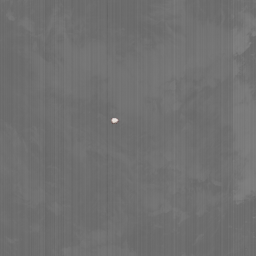Target: (109, 117, 119, 124)
